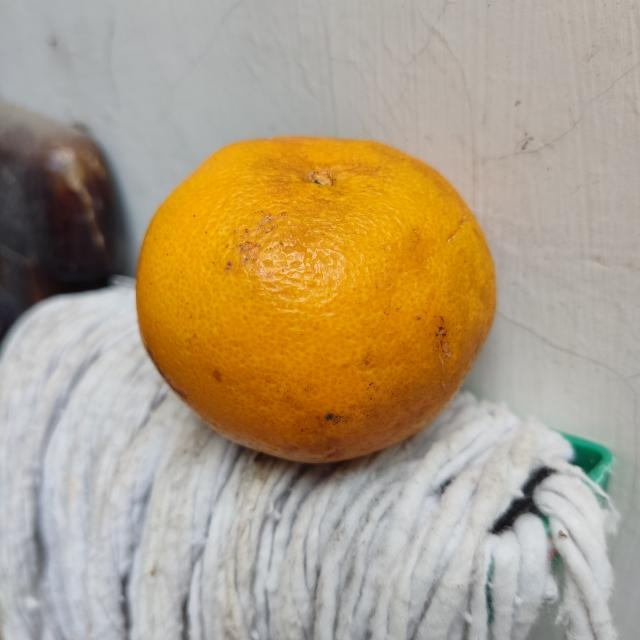agrume: (130, 131, 500, 468)
